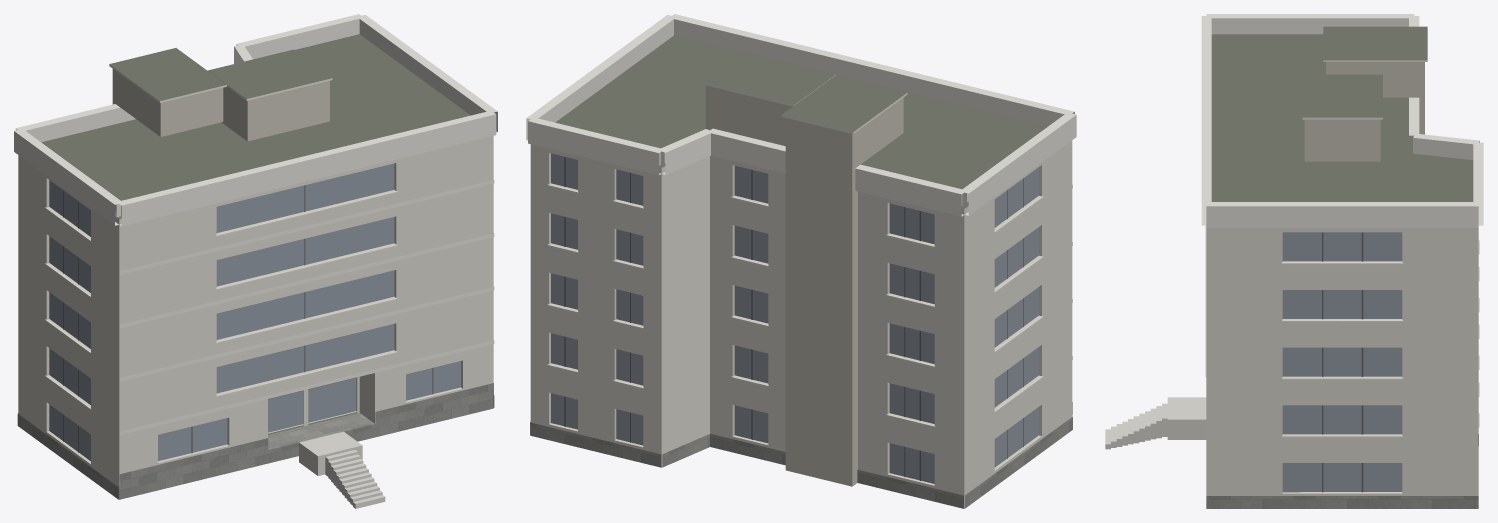
The picture shows the model from 3 angles, left to right: view 1: azimuth 30°, elevation 25°; view 2: azimuth 150°, elevation 25°; view 3: azimuth 270°, elevation 25°; orthographic projection. The views are drawn at different scales.
Visible parts, largest first — view 1: vet80__wall, vet80__glass, vet80__trim, vet80__roof, vet80__base, vet80__wall2, vet80__entranceStair, vet80__frame; view 2: vet80__wall, vet80__wall2, vet80__trim, vet80__roof, vet80__glass, vet80__base, vet80__frame; view 3: vet80__wall, vet80__roof, vet80__glass, vet80__trim, vet80__wall2, vet80__base, vet80__entranceStair, vet80__frame.
Boxes of the visible parts, x1=… form: vet80__wall: x1=18, y1=136, x2=493, y2=499; vet80__glass: x1=49, y1=163, x2=460, y2=461; vet80__trim: x1=14, y1=14, x2=497, y2=434; vet80__roof: x1=41, y1=34, x2=493, y2=499; vet80__base: x1=17, y1=383, x2=494, y2=499; vet80__wall2: x1=112, y1=69, x2=329, y2=141; vet80__entranceStair: x1=299, y1=431, x2=385, y2=508; vet80__frame: x1=63, y1=185, x2=433, y2=453; vet80__wall: x1=530, y1=140, x2=1072, y2=508; vet80__wall2: x1=705, y1=85, x2=903, y2=486; vet80__trim: x1=526, y1=14, x2=1076, y2=427; vet80__roof: x1=555, y1=35, x2=1047, y2=508; vet80__glass: x1=551, y1=153, x2=1038, y2=483; vet80__base: x1=530, y1=402, x2=1072, y2=508; vet80__frame: x1=564, y1=156, x2=1023, y2=480; vet80__wall: x1=1206, y1=227, x2=1478, y2=495; vet80__roof: x1=1211, y1=26, x2=1473, y2=201; vet80__glass: x1=1282, y1=232, x2=1402, y2=492; vet80__trim: x1=1201, y1=14, x2=1483, y2=437; vet80__wall2: x1=1304, y1=62, x2=1424, y2=161; vet80__base: x1=1206, y1=434, x2=1478, y2=508; vet80__entranceStair: x1=1105, y1=397, x2=1206, y2=449; vet80__frame: x1=1322, y1=232, x2=1363, y2=492.
Bounding box in the file's own units: 25.73 × 22.62 × 21.39.
9 materials, 1 textured.
